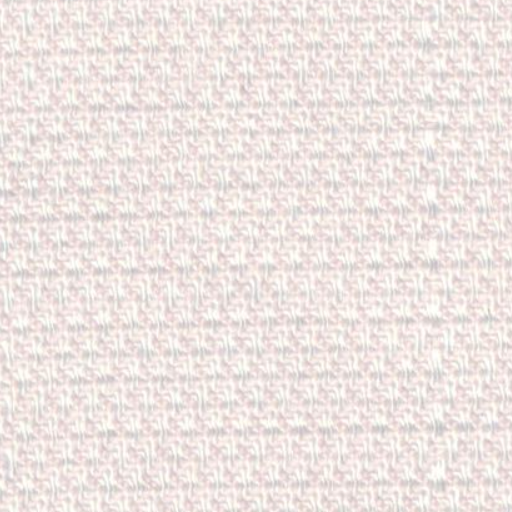TuoSha: (384, 18, 484, 500)
